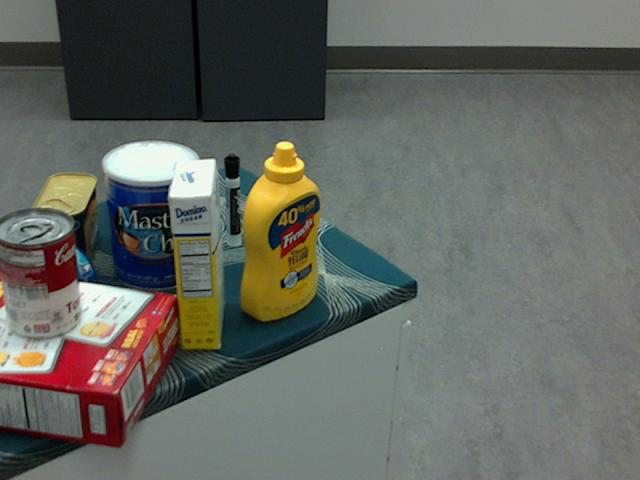cracker_box: (0, 268, 178, 447)
large_marker: (224, 153, 241, 246)
master_chef_can: (100, 140, 200, 292)
mug: (110, 142, 201, 224)
mustard_bottle: (239, 140, 321, 320)
potted_meat_can: (32, 171, 98, 276)
sugar_box: (166, 157, 224, 350)
tomato_soup_can: (0, 208, 80, 339)
tuna_fish_can: (9, 238, 96, 323)
